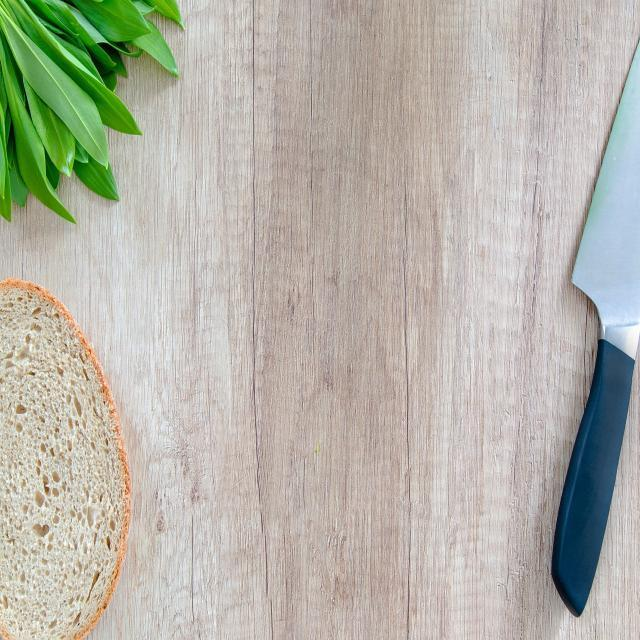Knife: (551, 42, 640, 615)
